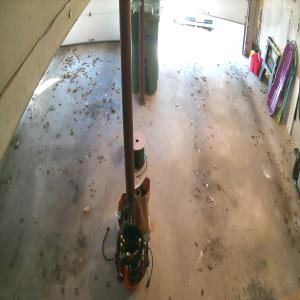garbage bin: (130, 0, 160, 96)
tool bucket: (116, 225, 146, 290)
